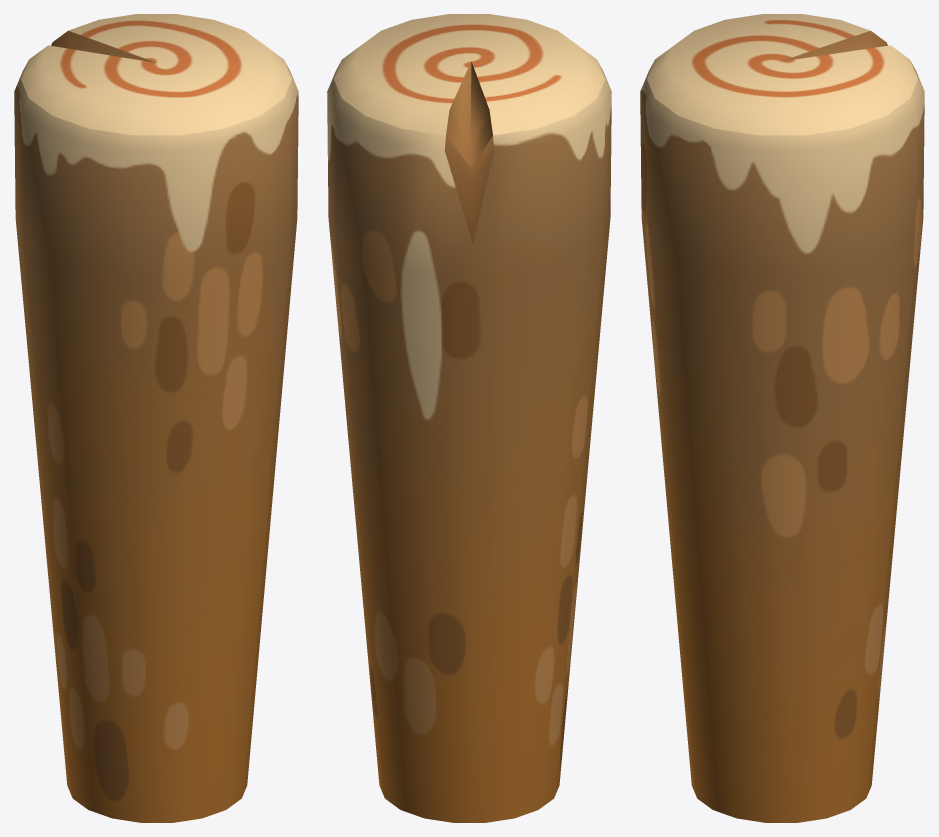
File: Prop_BridgeStick3.fbx
The picture shows the model from 3 angles, left to right: view 1: azimuth 30°, elevation 25°; view 2: azimuth 150°, elevation 25°; view 3: azimuth 270°, elevation 25°; orthographic projection.
Visible parts, largest first — view 1: BridgeStick3; view 2: BridgeStick3; view 3: BridgeStick3.
Part boxes in pixels (x1,y1,x2,y2): BridgeStick3: (14, 14, 298, 822); BridgeStick3: (327, 14, 611, 822); BridgeStick3: (640, 14, 924, 822).
Bounding box in the file's own units: 34.61 × 98.58 × 35.14.
